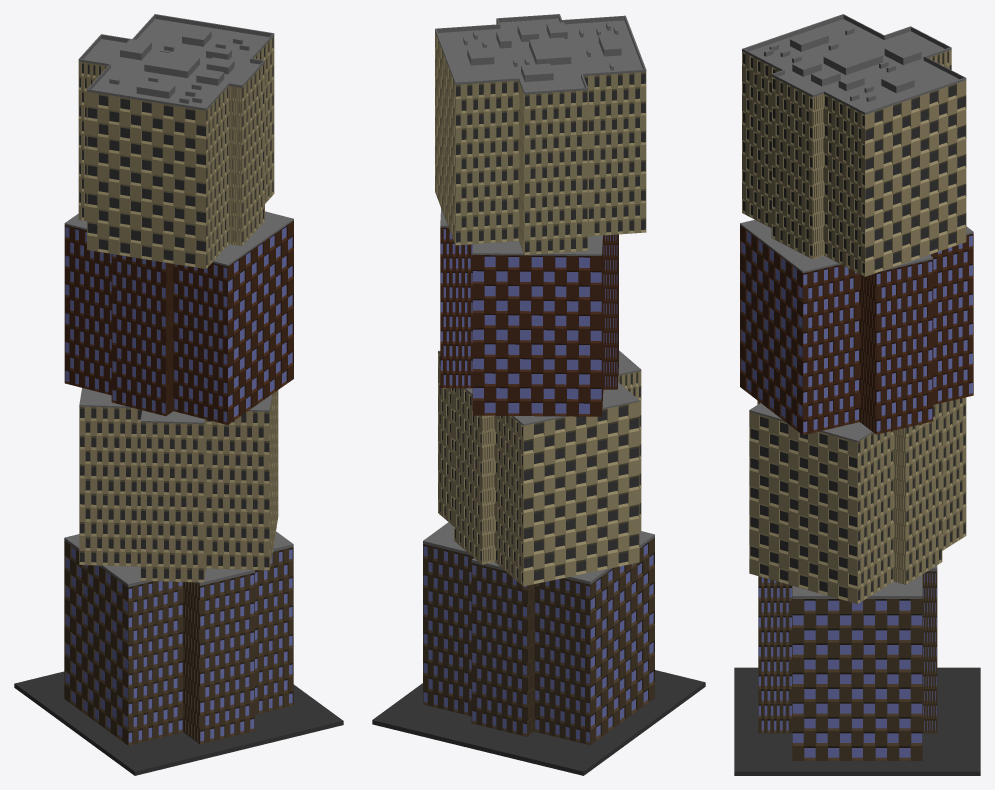
3 views of the same model, side by side, from view 1: azimuth 30°, elevation 25°; view 2: azimuth 150°, elevation 25°; view 3: azimuth 270°, elevation 25° (orthographic). The views are drawn at different scales.
Visible parts, largest first — view 1: Cube.023, Cube.020, Cube.022, Cube.021, Floor.014; view 2: Cube.023, Cube.020, Cube.021, Cube.022, Floor.014; view 3: Cube.023, Cube.022, Cube.021, Cube.020, Floor.014.
Boxes of the visible parts, x1,y1,x2,y2 form: Cube.023: [78, 14, 274, 268]; Cube.020: [64, 531, 293, 745]; Cube.022: [64, 211, 293, 424]; Cube.021: [79, 388, 278, 582]; Floor.014: [14, 671, 343, 775]; Cube.023: [435, 14, 646, 255]; Cube.020: [423, 522, 654, 745]; Cube.021: [438, 350, 641, 586]; Cube.022: [440, 208, 618, 416]; Floor.014: [372, 670, 705, 775]; Cube.023: [742, 14, 966, 276]; Cube.022: [740, 220, 973, 434]; Cube.021: [749, 397, 966, 604]; Cube.020: [758, 565, 937, 760]; Floor.014: [734, 667, 980, 775].
Bounding box in the file's own units: 800 × 2378 × 800.
